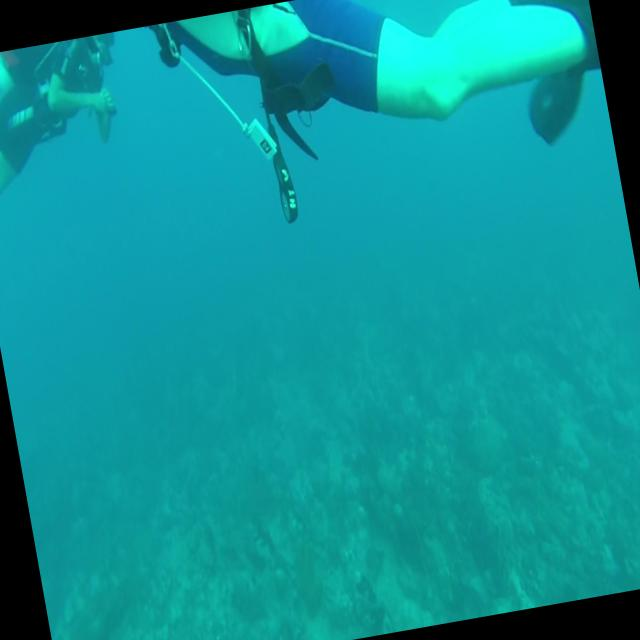human: (128, 0, 617, 243), (0, 31, 138, 200)
